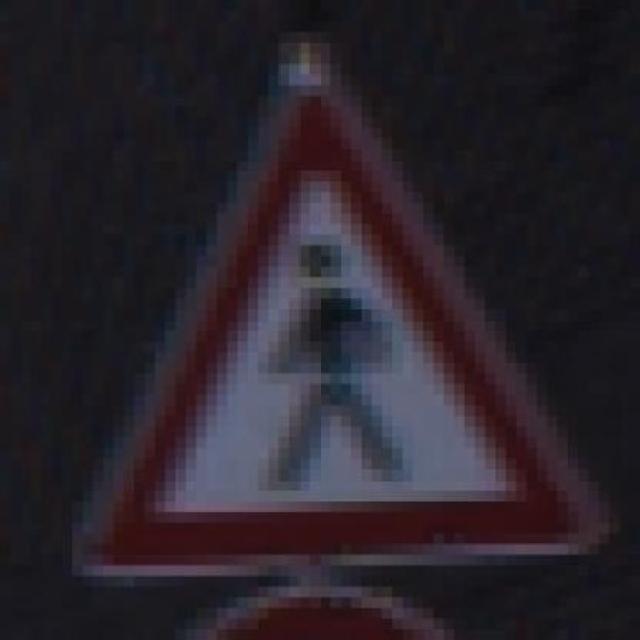Pedestrian Crossing: (52, 64, 619, 587)
